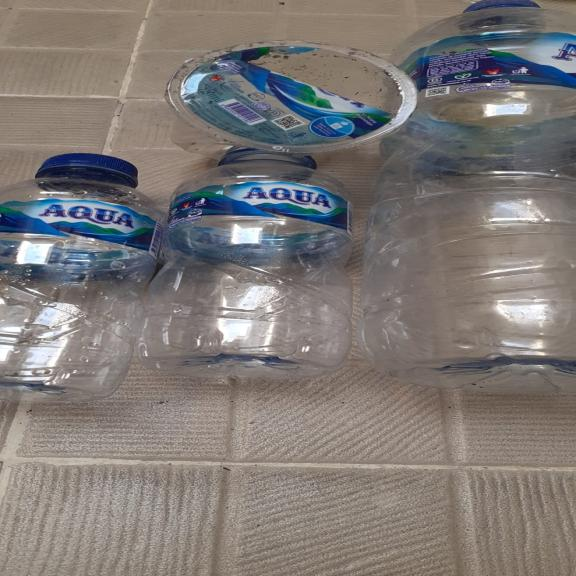Plastik: (367, 0, 576, 395), (156, 144, 352, 385), (0, 152, 165, 404)
